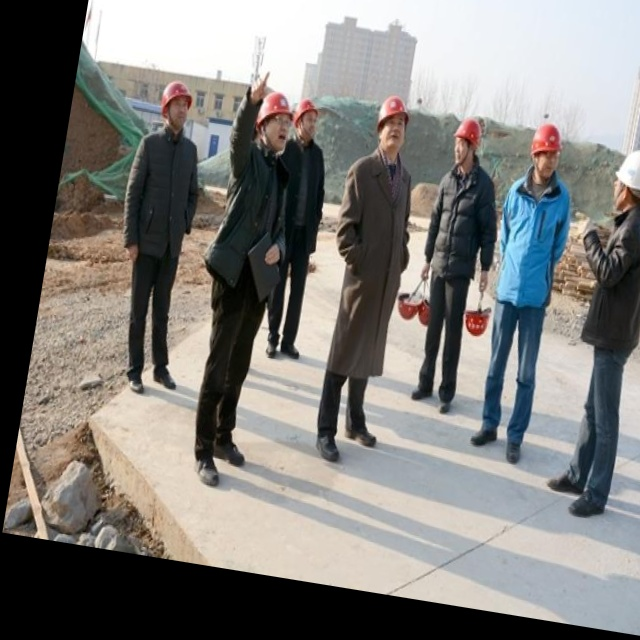Con_Casco: (526, 120, 565, 180), (609, 147, 640, 216)
Sin_Chaleco: (326, 147, 418, 303), (123, 125, 204, 255)
